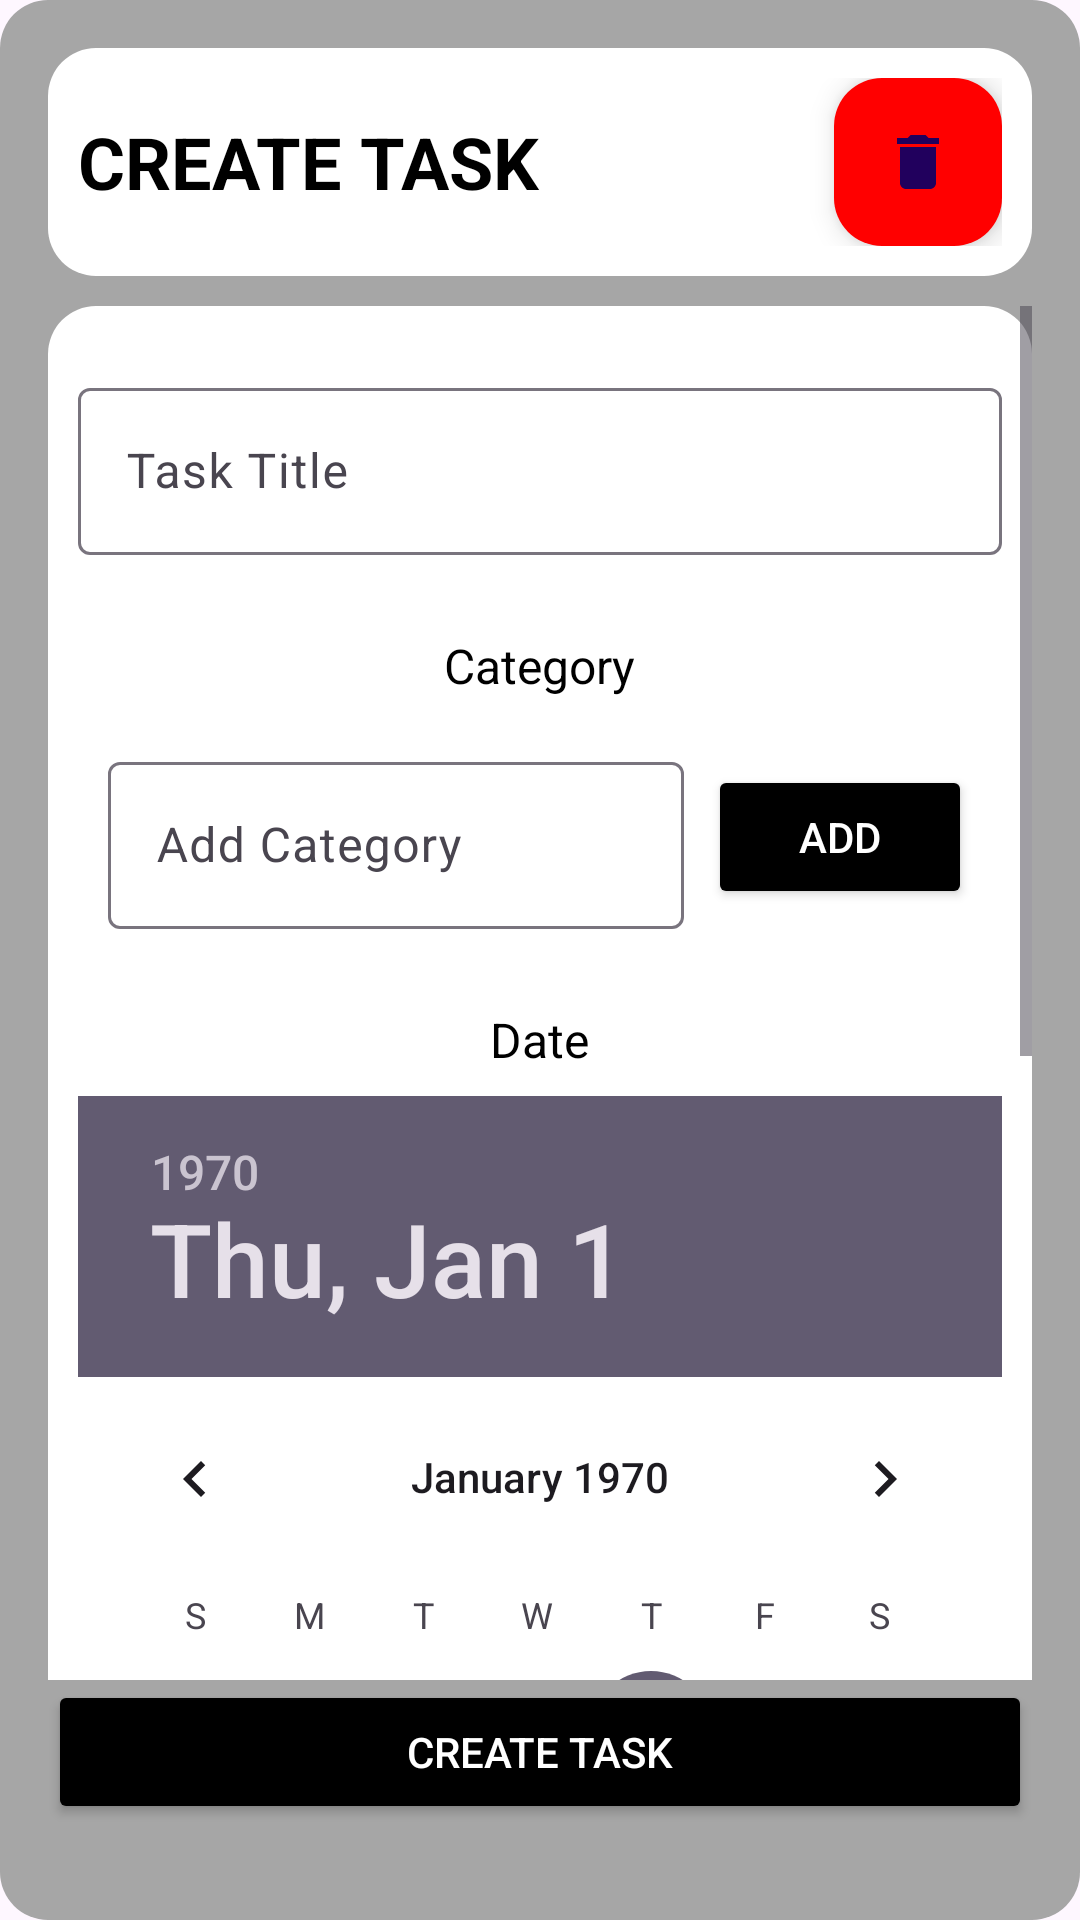

Screen size 1080*1920. Icon name, then its center in pixels as [x,y]:
delete: [918,162]
